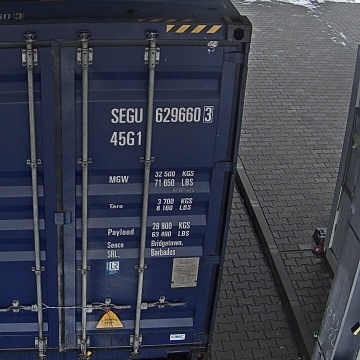serial_id: (111, 107, 212, 123)
